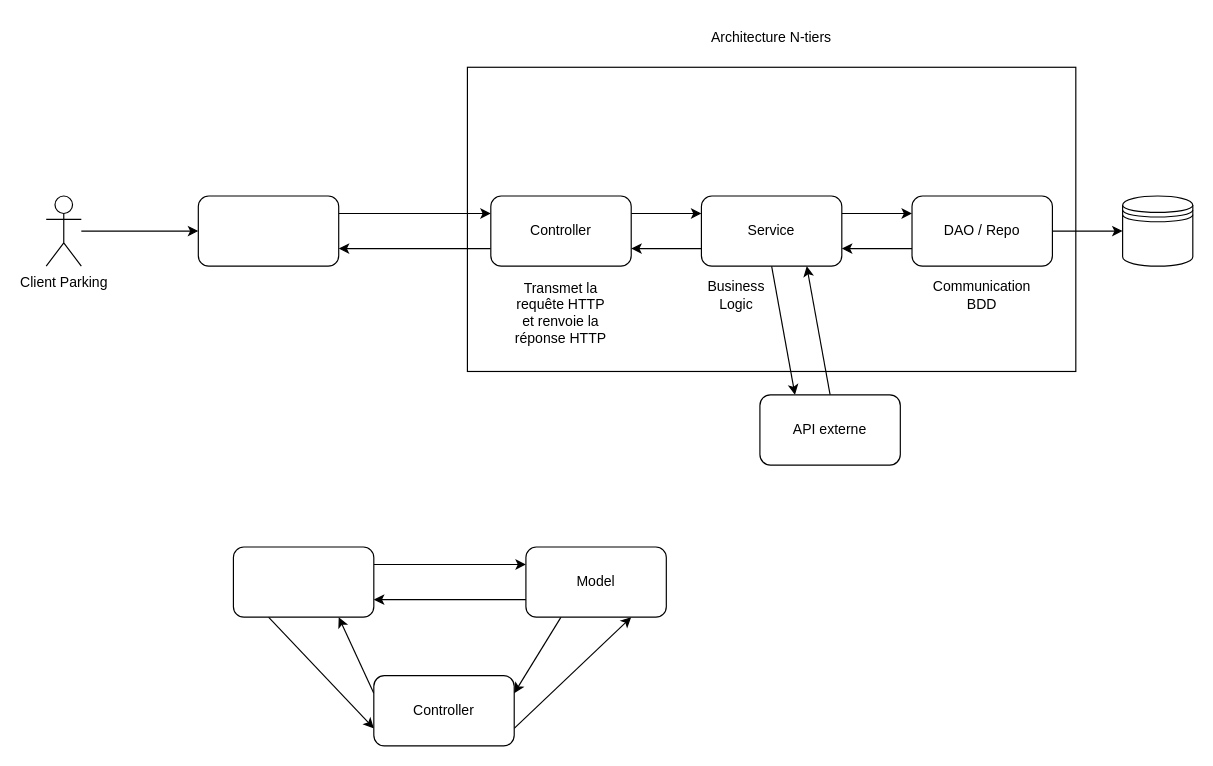
The diagram is 1213 pixels wide and 766 high, and some of its shapes have lost their labels. The shapes that lost their labels are listed below. From the top down, each one's box as (x1, y1, x2, y2) in pixels, then its label:
(197, 195, 339, 266): WebClient (=Front)
(466, 66, 1076, 371): Application Java
(232, 546, 374, 617): Vue
